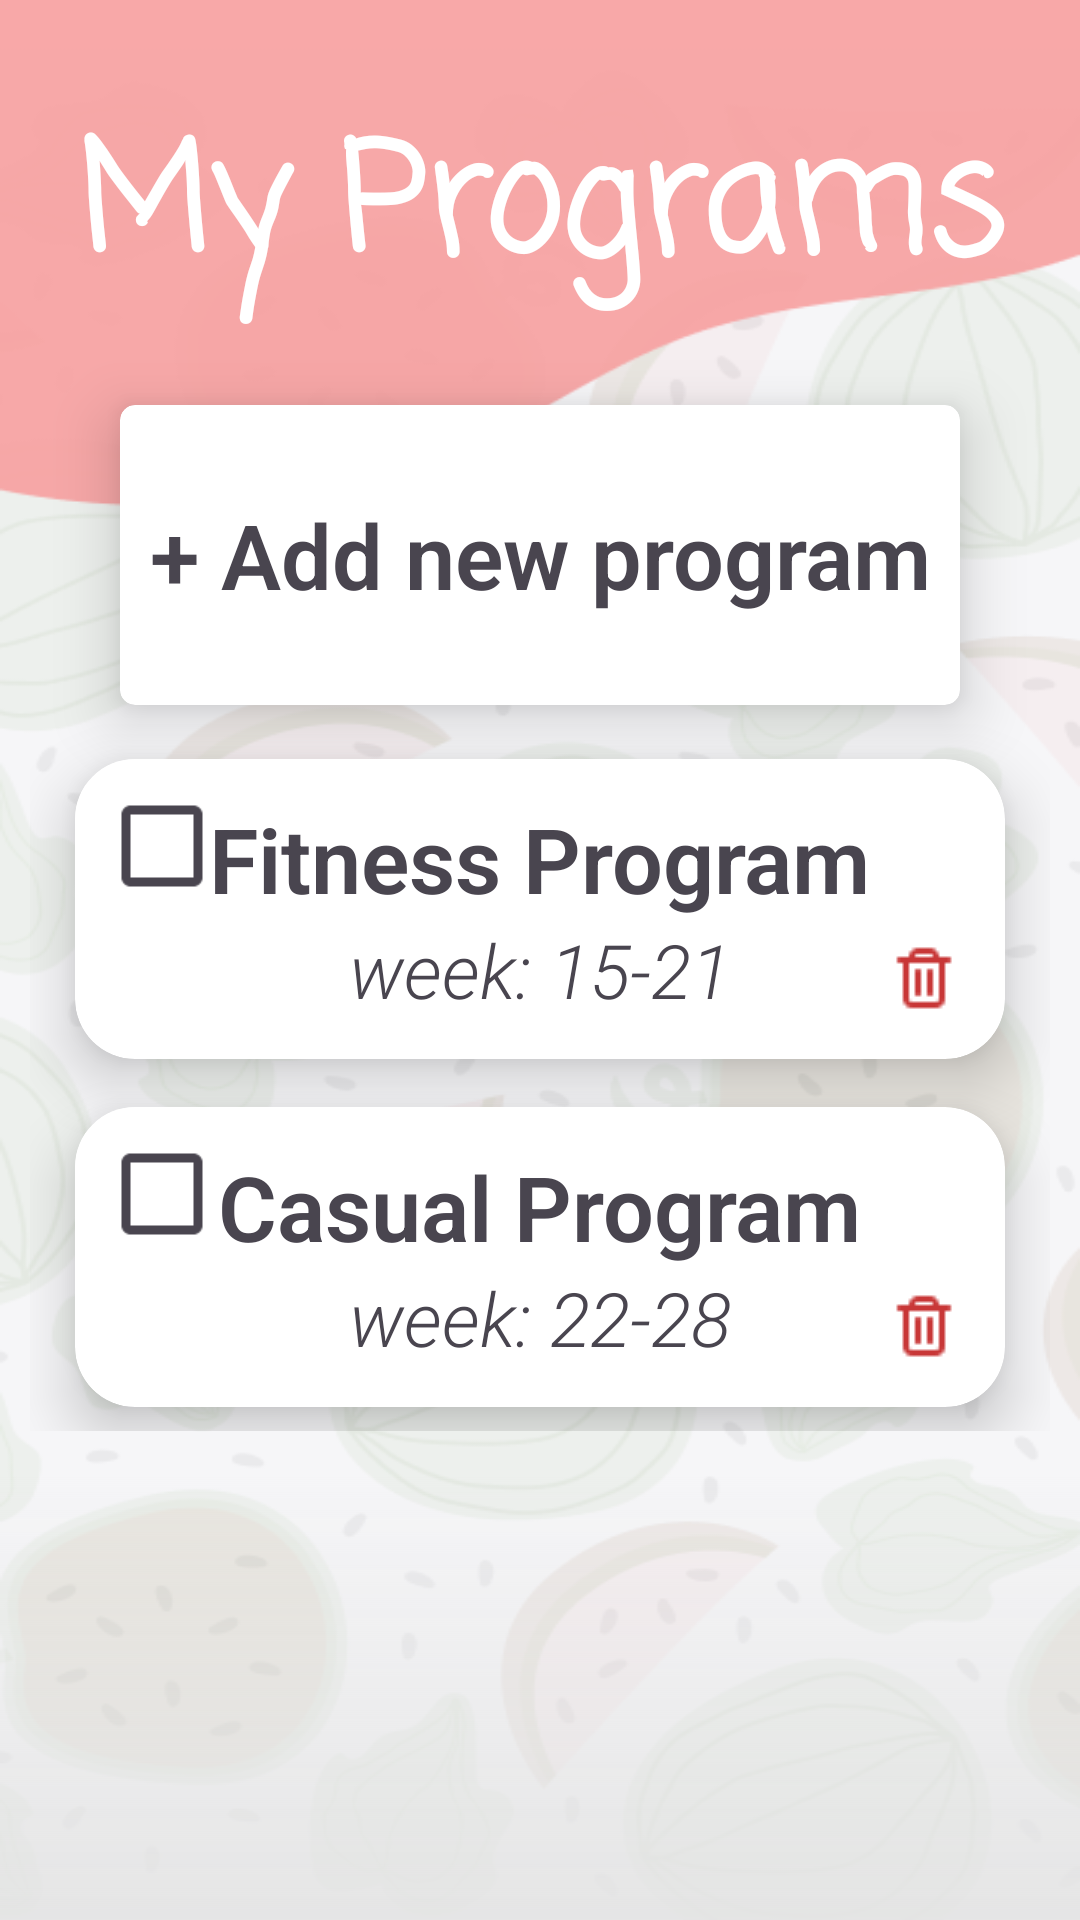

Screen size 1080px x 1920px. Icon name, then its center in pixels as (x=x, y=y):
trash: (x=924, y=978), (x=924, y=1326)
